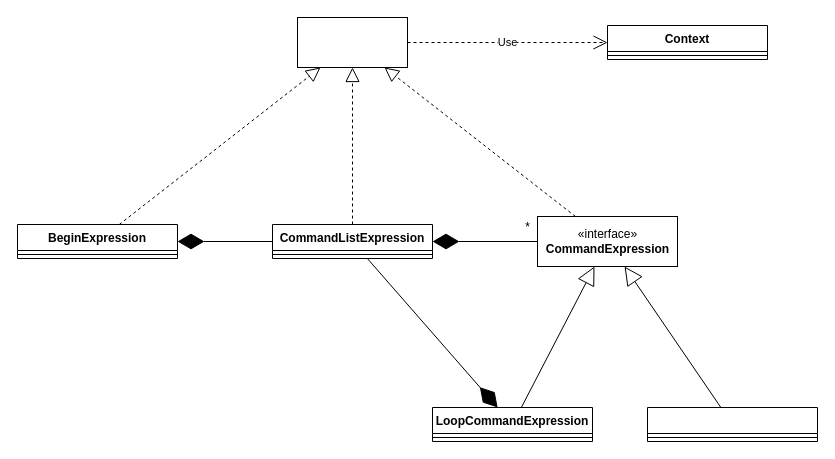
The diagram is 835 pixels wide and 459 high, and some of its shapes have lost their labels. Each missing label, with the box of its shape:
ActionCommandExpression: (646, 406, 818, 442)
«interface» Expression: (296, 16, 408, 68)
